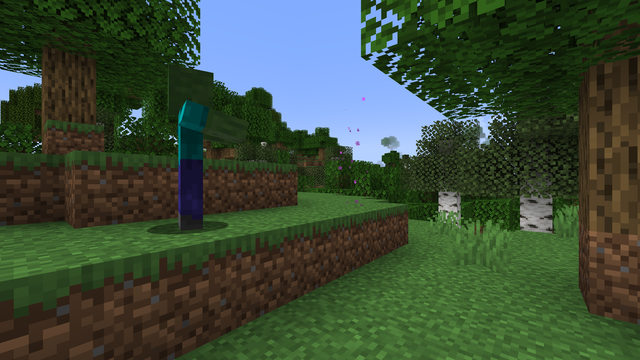zombies: (156, 65, 222, 233)
